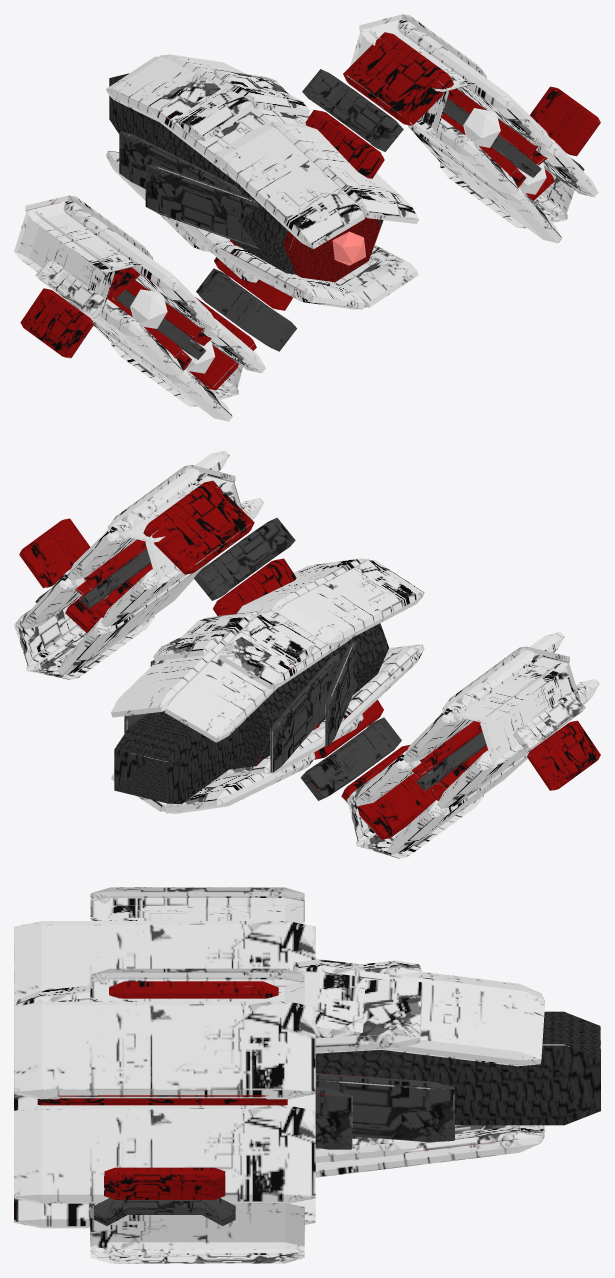
File: zalek_drone_bomber.gltf
3 views of the same model, one above another, from view 1: azimuth 30°, elevation 25°; view 2: azimuth 150°, elevation 25°; view 3: azimuth 270°, elevation 25° (orthographic). The views are drawn at different scales.
Visible parts, largest first — view 1: bose; view 2: bose; view 3: bose.
Boxes of the visible parts, x1,y1,x2,y2 form: bose: (14,14,600,421); bose: (14,450,600,858); bose: (14,887,600,1263).
Size of the model in its own units: 8.69 by 4.15 by 6.47.
Materials: 1 (1 with a texture image).
